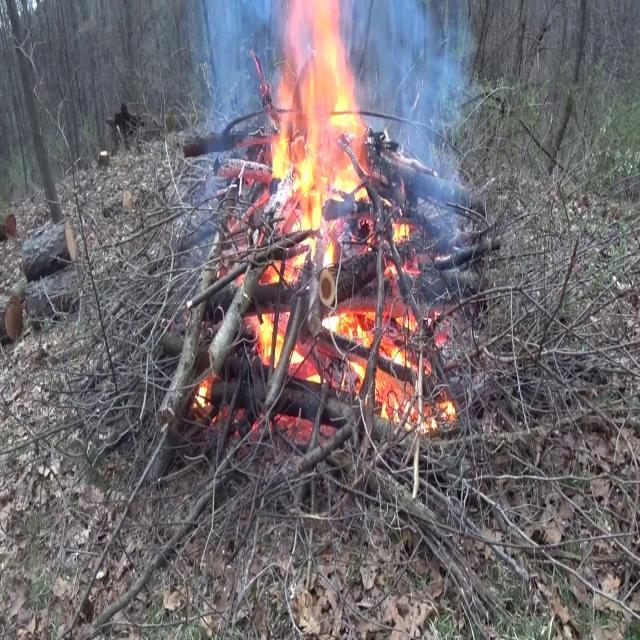Fire: (246, 0, 447, 420), (255, 1, 372, 266)
Smoke: (362, 2, 479, 226)
